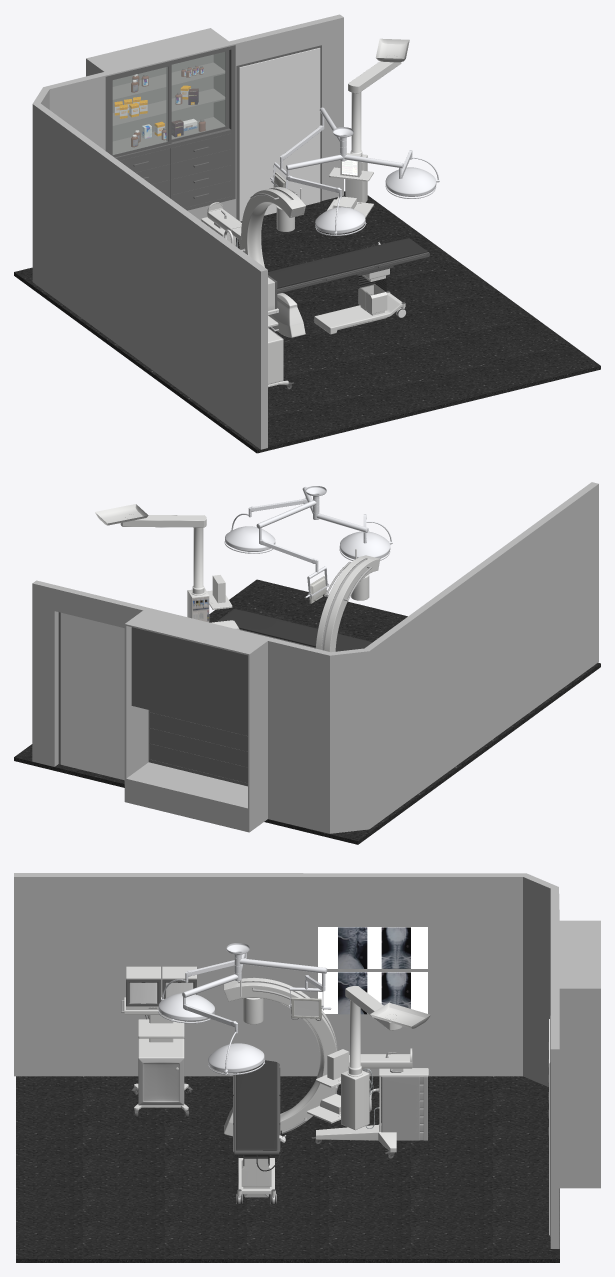
The model's file is hospital_operating_room_ward.glb.
The picture shows the model from 3 angles, top to bottom: view 1: azimuth 30°, elevation 25°; view 2: azimuth 150°, elevation 25°; view 3: azimuth 270°, elevation 25°; orthographic projection. The views are drawn at different scales.
Visible parts, largest first — view 1: Obj3d66-626628-91-538_143, Obj3d66-626628-127-526_133, Obj3d66-626628-31-480_73, Obj3d66-626628-89-83_68, Obj3d66-626628-99-256_42, Obj3d66-626628-37-396_77, Obj3d66-626628-38-984_78, Obj3d66-626628-87-179_142, Obj3d66-626628-103-484_25, Obj3d66-626628-119-228_31, Obj3d66-626628-11-79_55, Obj3d66-626628-110-727_11 (+10 smaller); view 2: Obj3d66-626628-91-538_143, Obj3d66-626628-31-480_73, Obj3d66-626628-87-179_142, Obj3d66-626628-89-83_68, Obj3d66-626628-127-526_133, Obj3d66-626628-99-256_42, Obj3d66-626628-103-484_25, Obj3d66-626628-5-930_57, Obj3d66-626628-126-711_20, Obj3d66-626628-110-727_11, Obj3d66-626628-11-79_55, Obj3d66-626628-101-783_23 (+2 smaller); view 3: Obj3d66-626628-91-538_143, Obj3d66-626628-127-526_133, Obj3d66-626628-87-179_142, Obj3d66-626628-99-256_42, Obj3d66-626628-103-484_25, Obj3d66-626628-92-709_35, Obj3d66-626628-11-79_55, Obj3d66-626628-22-282_52, Obj3d66-626628-21-63_51, Obj3d66-626628-25-331_136, Obj3d66-626628-126-711_20, Obj3d66-626628-26-635_137 (+13 smaller).
Boxes of the visible parts, <box> form: Obj3d66-626628-91-538_143: <box>32,14,343,449</box>; Obj3d66-626628-127-526_133: <box>14,191,600,453</box>; Obj3d66-626628-31-480_73: <box>105,45,235,210</box>; Obj3d66-626628-89-83_68: <box>239,48,320,221</box>; Obj3d66-626628-99-256_42: <box>201,187,305,337</box>; Obj3d66-626628-37-396_77: <box>113,67,167,154</box>; Obj3d66-626628-38-984_78: <box>172,52,225,139</box>; Obj3d66-626628-87-179_142: <box>86,28,233,220</box>; Obj3d66-626628-103-484_25: <box>268,238,427,288</box>; Obj3d66-626628-119-228_31: <box>314,268,405,334</box>; Obj3d66-626628-11-79_55: <box>327,92,373,216</box>; Obj3d66-626628-110-727_11: <box>286,170,366,235</box>; Obj3d66-626628-91-538_143: <box>32,482,598,833</box>; Obj3d66-626628-31-480_73: <box>131,627,247,786</box>; Obj3d66-626628-87-179_142: <box>124,607,271,832</box>; Obj3d66-626628-89-83_68: <box>60,612,124,780</box>; Obj3d66-626628-127-526_133: <box>14,579,600,844</box>; Obj3d66-626628-99-256_42: <box>315,555,380,652</box>; Obj3d66-626628-103-484_25: <box>216,609,372,651</box>; Obj3d66-626628-5-930_57: <box>95,504,206,527</box>; Obj3d66-626628-126-711_20: <box>224,497,307,553</box>; Obj3d66-626628-110-727_11: <box>339,514,392,560</box>; Obj3d66-626628-11-79_55: <box>187,527,232,622</box>; Obj3d66-626628-101-783_23: <box>256,486,326,566</box>; Obj3d66-626628-91-538_143: <box>14,873,559,1248</box>; Obj3d66-626628-127-526_133: <box>16,1076,559,1262</box>; Obj3d66-626628-87-179_142: <box>550,920,600,1188</box>; Obj3d66-626628-99-256_42: <box>223,978,428,1152</box>; Obj3d66-626628-103-484_25: <box>236,1060,277,1150</box>; Obj3d66-626628-92-709_35: <box>238,977,427,1140</box>; Obj3d66-626628-11-79_55: <box>307,1000,369,1130</box>; Obj3d66-626628-22-282_52: <box>124,997,188,1110</box>; Obj3d66-626628-21-63_51: <box>121,1000,184,1105</box>; Obj3d66-626628-25-331_136: <box>318,927,427,968</box>; Obj3d66-626628-126-711_20: <box>183,997,264,1075</box>; Obj3d66-626628-26-635_137: <box>318,972,427,1013</box>.
Size of what is drawn, in the model's own units: 4.85 by 2.75 by 6.4.
54 materials, 13 textured.
